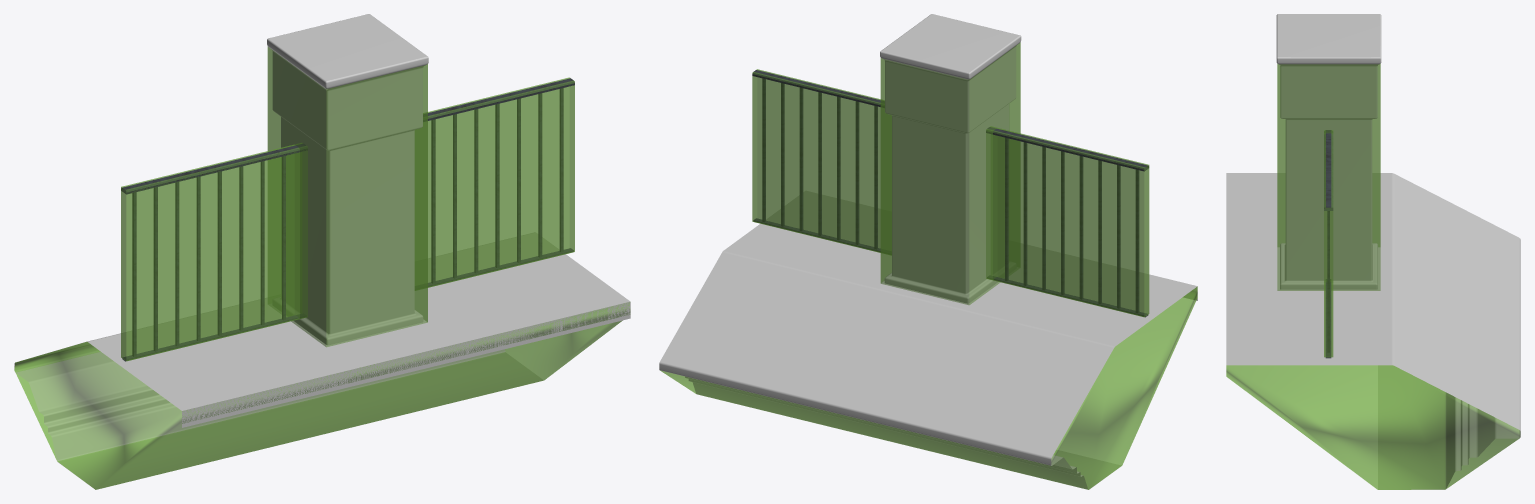
The model's file is F7_md_Roof_3m_01.fbx.
3 renders of one model, left to right at view 1: azimuth 30°, elevation 25°; view 2: azimuth 150°, elevation 25°; view 3: azimuth 270°, elevation 25°, orthographic. The views are drawn at different scales.
Visible parts, largest first — view 1: F7_md_Roof_3m_01_LOD0, F7_md_Roof_3m_01_col_01, F7_md_Roof_3m_01_col_02, F7_md_Roof_3m_01_col_03; view 2: F7_md_Roof_3m_01_LOD0, F7_md_Roof_3m_01_col_01, F7_md_Roof_3m_01_col_02, F7_md_Roof_3m_01_col_03; view 3: F7_md_Roof_3m_01_LOD0, F7_md_Roof_3m_01_col_02, F7_md_Roof_3m_01_col_03, F7_md_Roof_3m_01_col_01.
Part boxes in pixels (<box>): F7_md_Roof_3m_01_LOD0: <box>14,14,630,489</box>; F7_md_Roof_3m_01_col_01: <box>121,77,574,361</box>; F7_md_Roof_3m_01_col_02: <box>267,46,427,347</box>; F7_md_Roof_3m_01_col_03: <box>14,302,630,489</box>; F7_md_Roof_3m_01_LOD0: <box>659,14,1197,489</box>; F7_md_Roof_3m_01_col_01: <box>752,69,1149,317</box>; F7_md_Roof_3m_01_col_02: <box>880,42,1020,304</box>; F7_md_Roof_3m_01_col_03: <box>660,286,1197,489</box>; F7_md_Roof_3m_01_LOD0: <box>1226,14,1520,489</box>; F7_md_Roof_3m_01_col_02: <box>1277,64,1380,290</box>; F7_md_Roof_3m_01_col_03: <box>1226,365,1520,489</box>; F7_md_Roof_3m_01_col_01: <box>1324,130,1333,357</box>.
Size of what is drawn, in the model's own units: 300 by 261 by 194.
